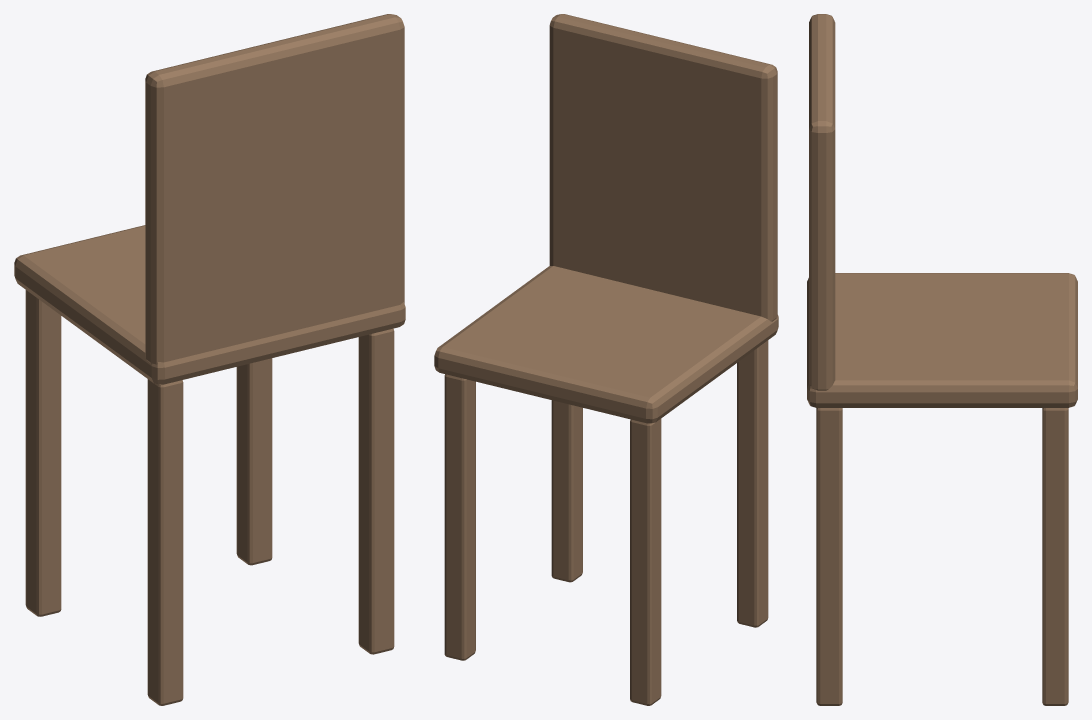
File: chair.glb
3 renders of one model, left to right at view 1: azimuth 30°, elevation 25°; view 2: azimuth 150°, elevation 25°; view 3: azimuth 270°, elevation 25°, orthographic. The views are drawn at different scales.
Parts seen in each view (by area): view 1: chair_back, chair_seat, chair_leg_0, chair_leg_1, chair_leg_2, chair_leg_3; view 2: chair_back, chair_seat, chair_leg_2, chair_leg_3, chair_leg_0, chair_leg_1; view 3: chair_seat, chair_back, chair_leg_1, chair_leg_3.
Boxes of the visible parts, x1,y1,x2,y2 form: chair_back: (145, 14, 404, 364); chair_seat: (14, 225, 405, 384); chair_leg_0: (147, 379, 183, 705); chair_leg_1: (358, 328, 394, 654); chair_leg_2: (25, 290, 61, 616); chair_leg_3: (236, 358, 272, 565); chair_back: (549, 14, 777, 321); chair_seat: (434, 266, 778, 423); chair_leg_2: (630, 419, 661, 705); chair_leg_3: (444, 374, 475, 660); chair_leg_0: (737, 340, 768, 627); chair_leg_1: (551, 400, 582, 582); chair_seat: (807, 273, 1077, 407); chair_back: (809, 14, 835, 390); chair_leg_1: (816, 408, 842, 705); chair_leg_3: (1042, 408, 1068, 705).
Size of the model in its own units: 0.36 by 0.86 by 0.36.
